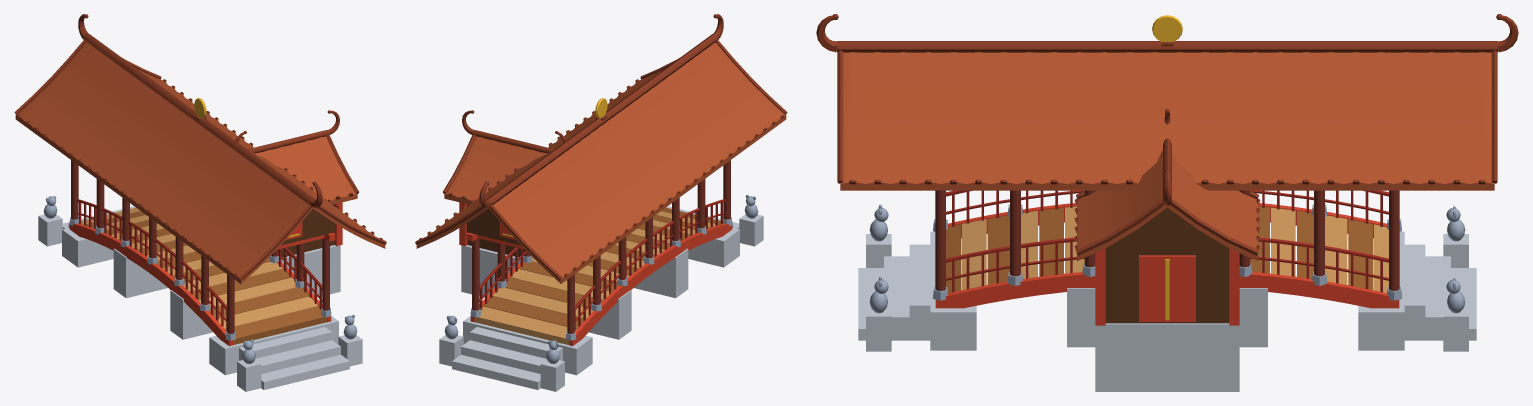
The model's file is chua_cau.glb.
3 views of the same model, side by side, from view 1: azimuth 30°, elevation 25°; view 2: azimuth 150°, elevation 25°; view 3: azimuth 270°, elevation 25° (orthographic). The views are drawn at different scales.
Parts seen in each view (by area): view 1: chua_cau; view 2: chua_cau; view 3: chua_cau.
Part boxes in pixels (x1=…): chua_cau: x1=14, y1=14, x2=386, y2=391; chua_cau: x1=415, y1=14, x2=787, y2=391; chua_cau: x1=816, y1=14, x2=1518, y2=391.
Bounding box in the file's own units: 6.95 × 6.34 × 13.63.
